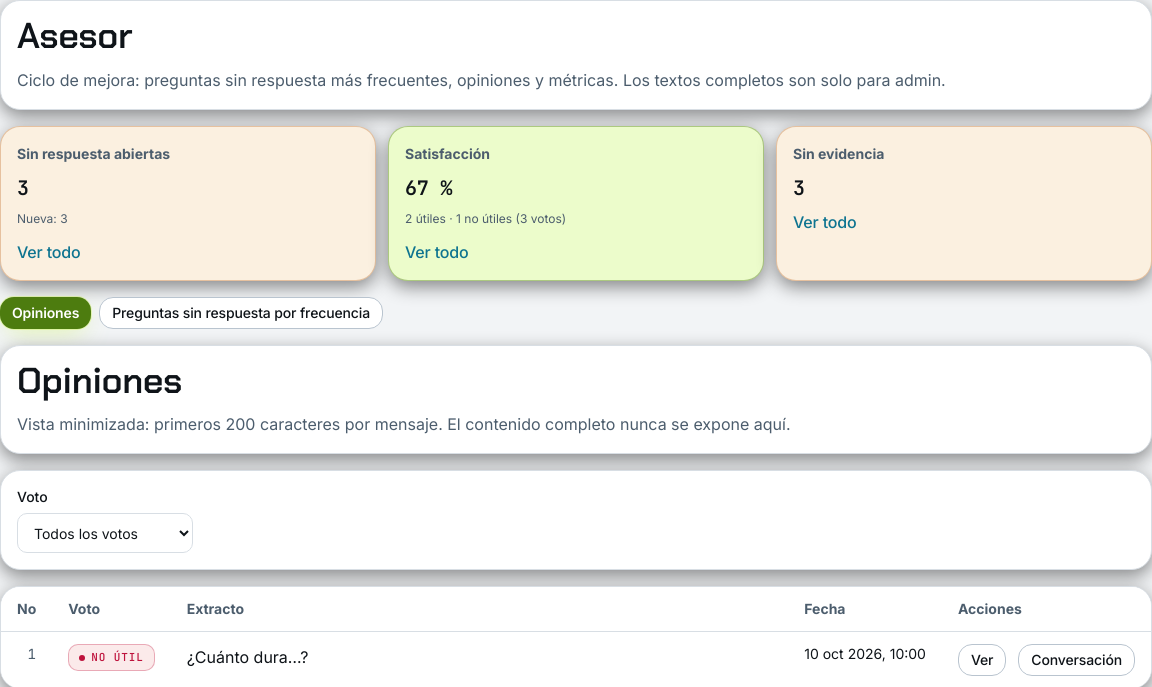
Test case: AdminAdvisorView › resolves a whole bucket with one action (forward-only triage)
What coordinates should you click on to do the following:
click the tab "Preguntas sin respuesta por frecuencia"
I would click on:
 (241, 312)
Its box is [99, 296, 383, 328].
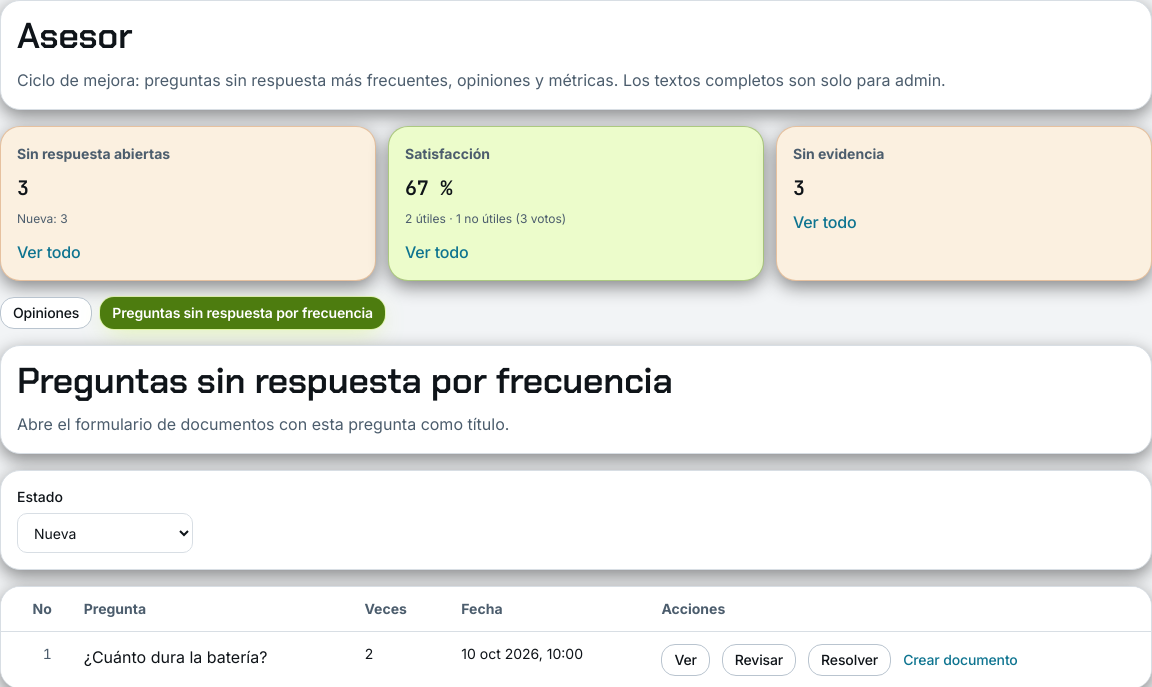
What coordinates should you click on to do the following:
click the button "Resolver"
I would click on:
 (850, 660)
Its box is [808, 644, 891, 676].
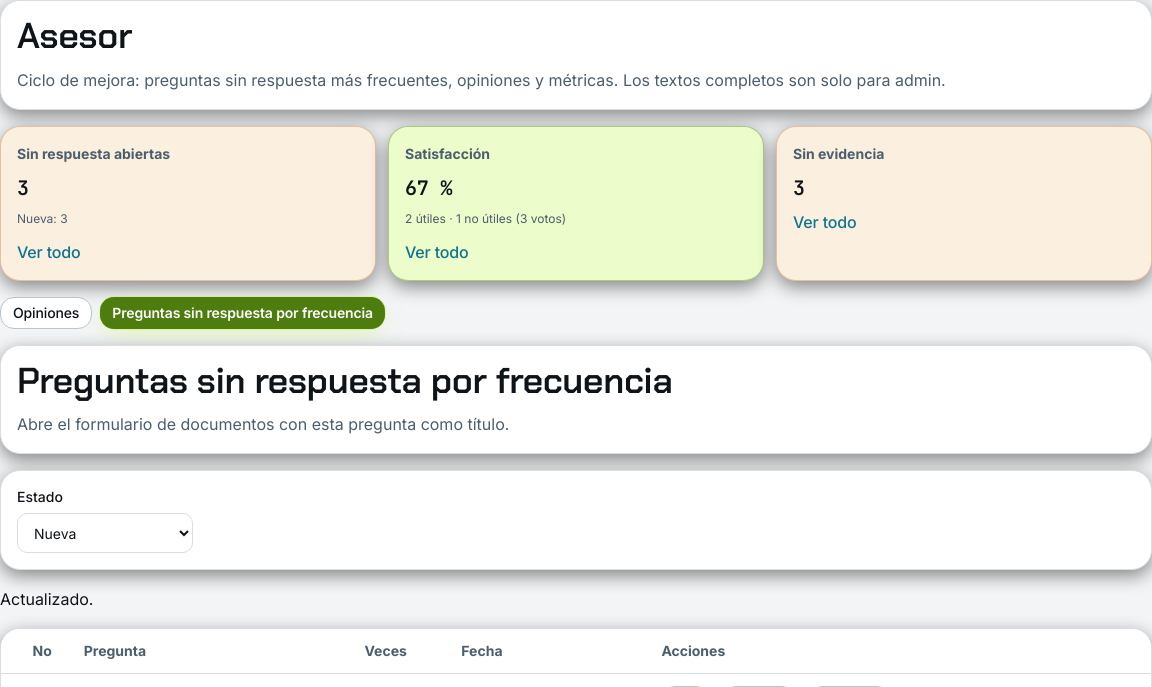
Now the text "Actualizado." is shown, box [0, 589, 93, 609]
